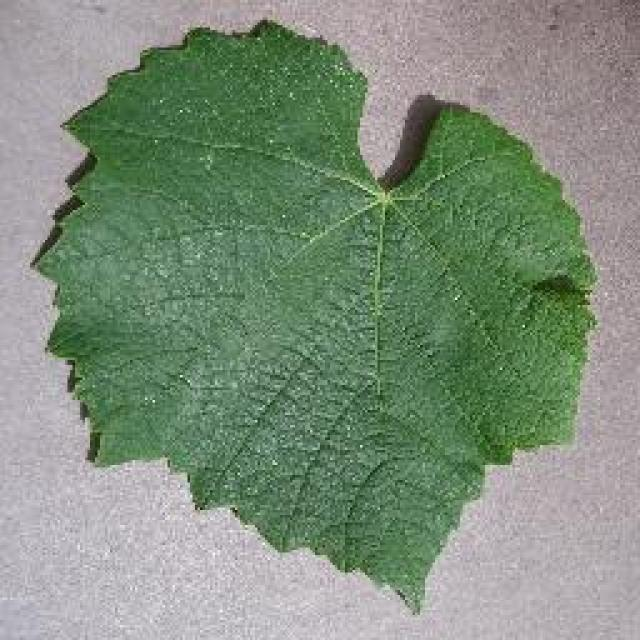Grape___healthy: (21, 11, 606, 624)
